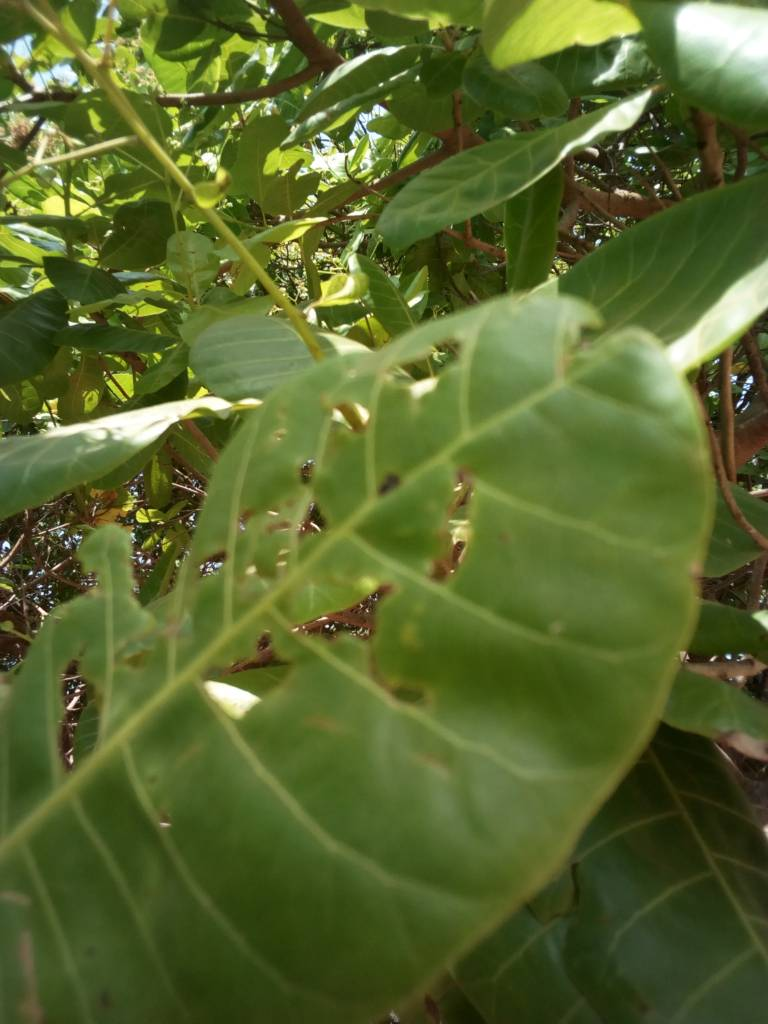Anoplonemis curvipes: (29, 322, 566, 978)
